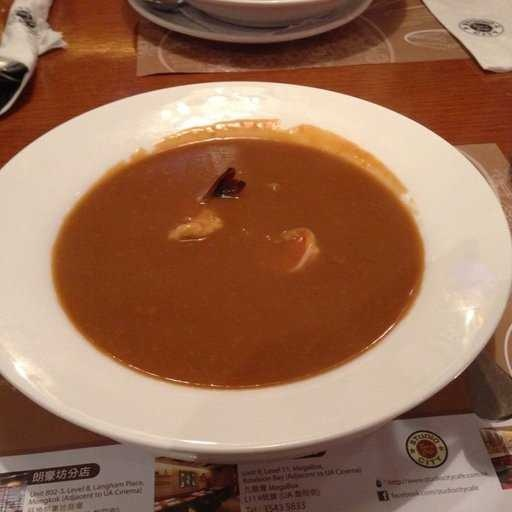soup: (54, 119, 433, 387)
